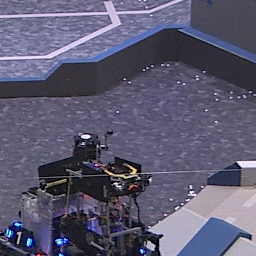Blue: (6, 227, 34, 250)
Robot: (1, 129, 165, 256)
